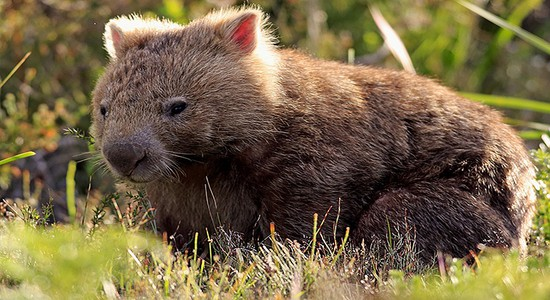Wombat: (89, 4, 536, 275)
